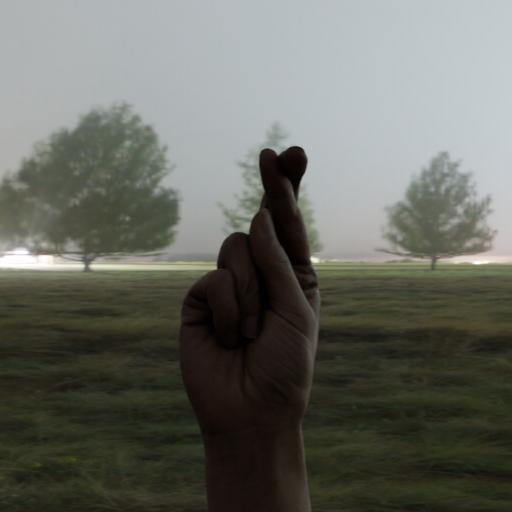R: (167, 129, 342, 429)
